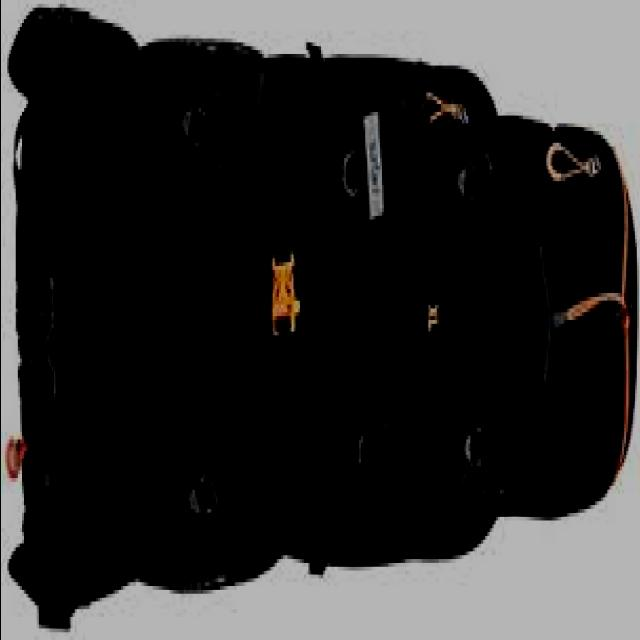backpack: (9, 5, 639, 629)
